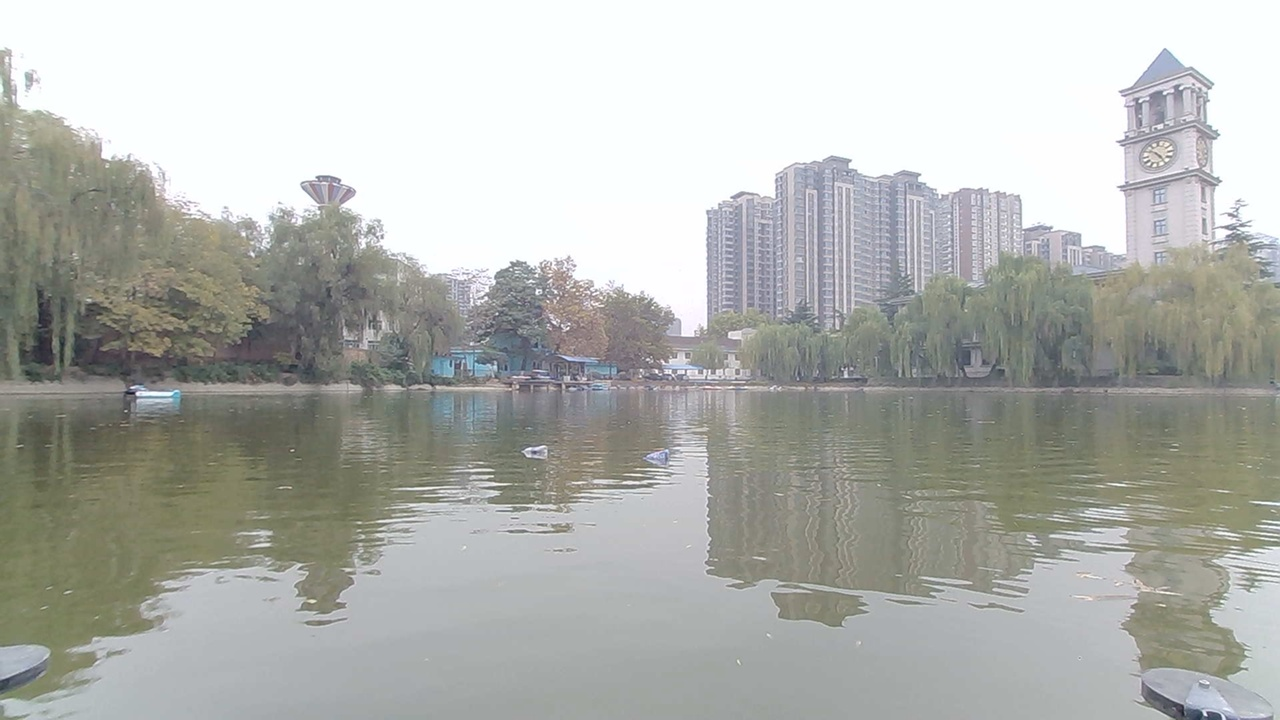bottle: (520, 434, 559, 460), (645, 450, 678, 467)
